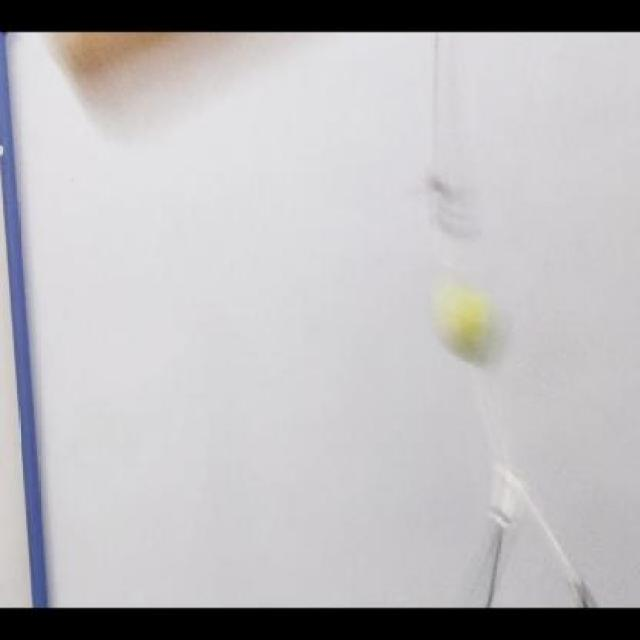baseball: (433, 283, 510, 368)
